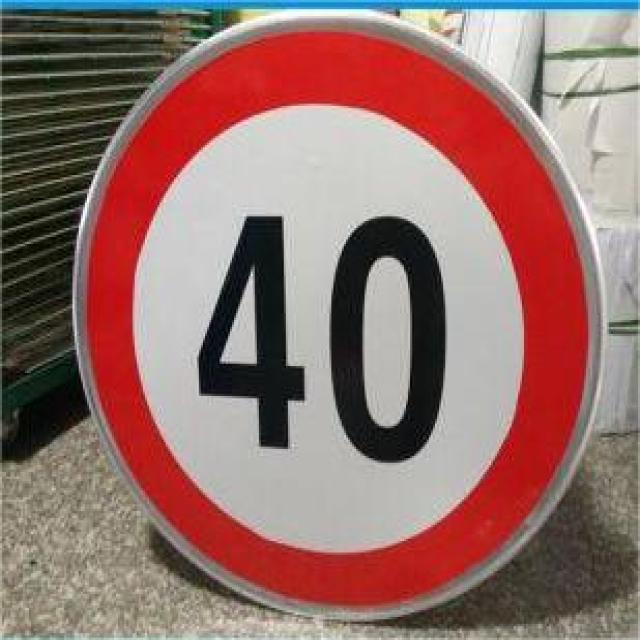speed limit 40: (69, 16, 606, 621)
